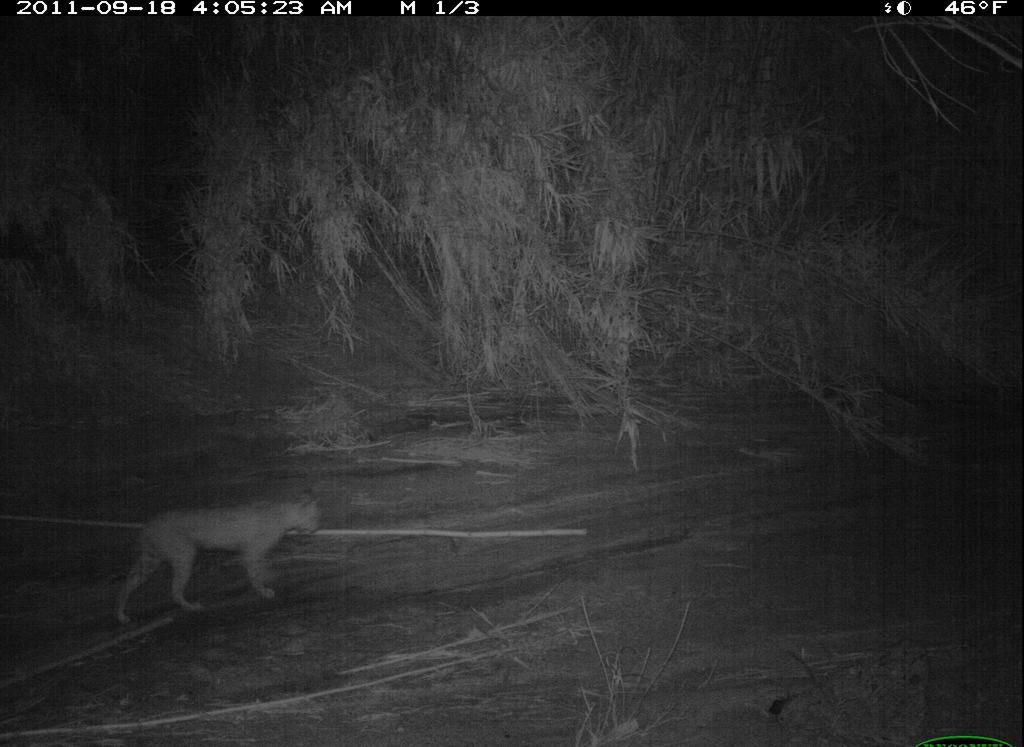bobcat: (105, 492, 328, 624)
